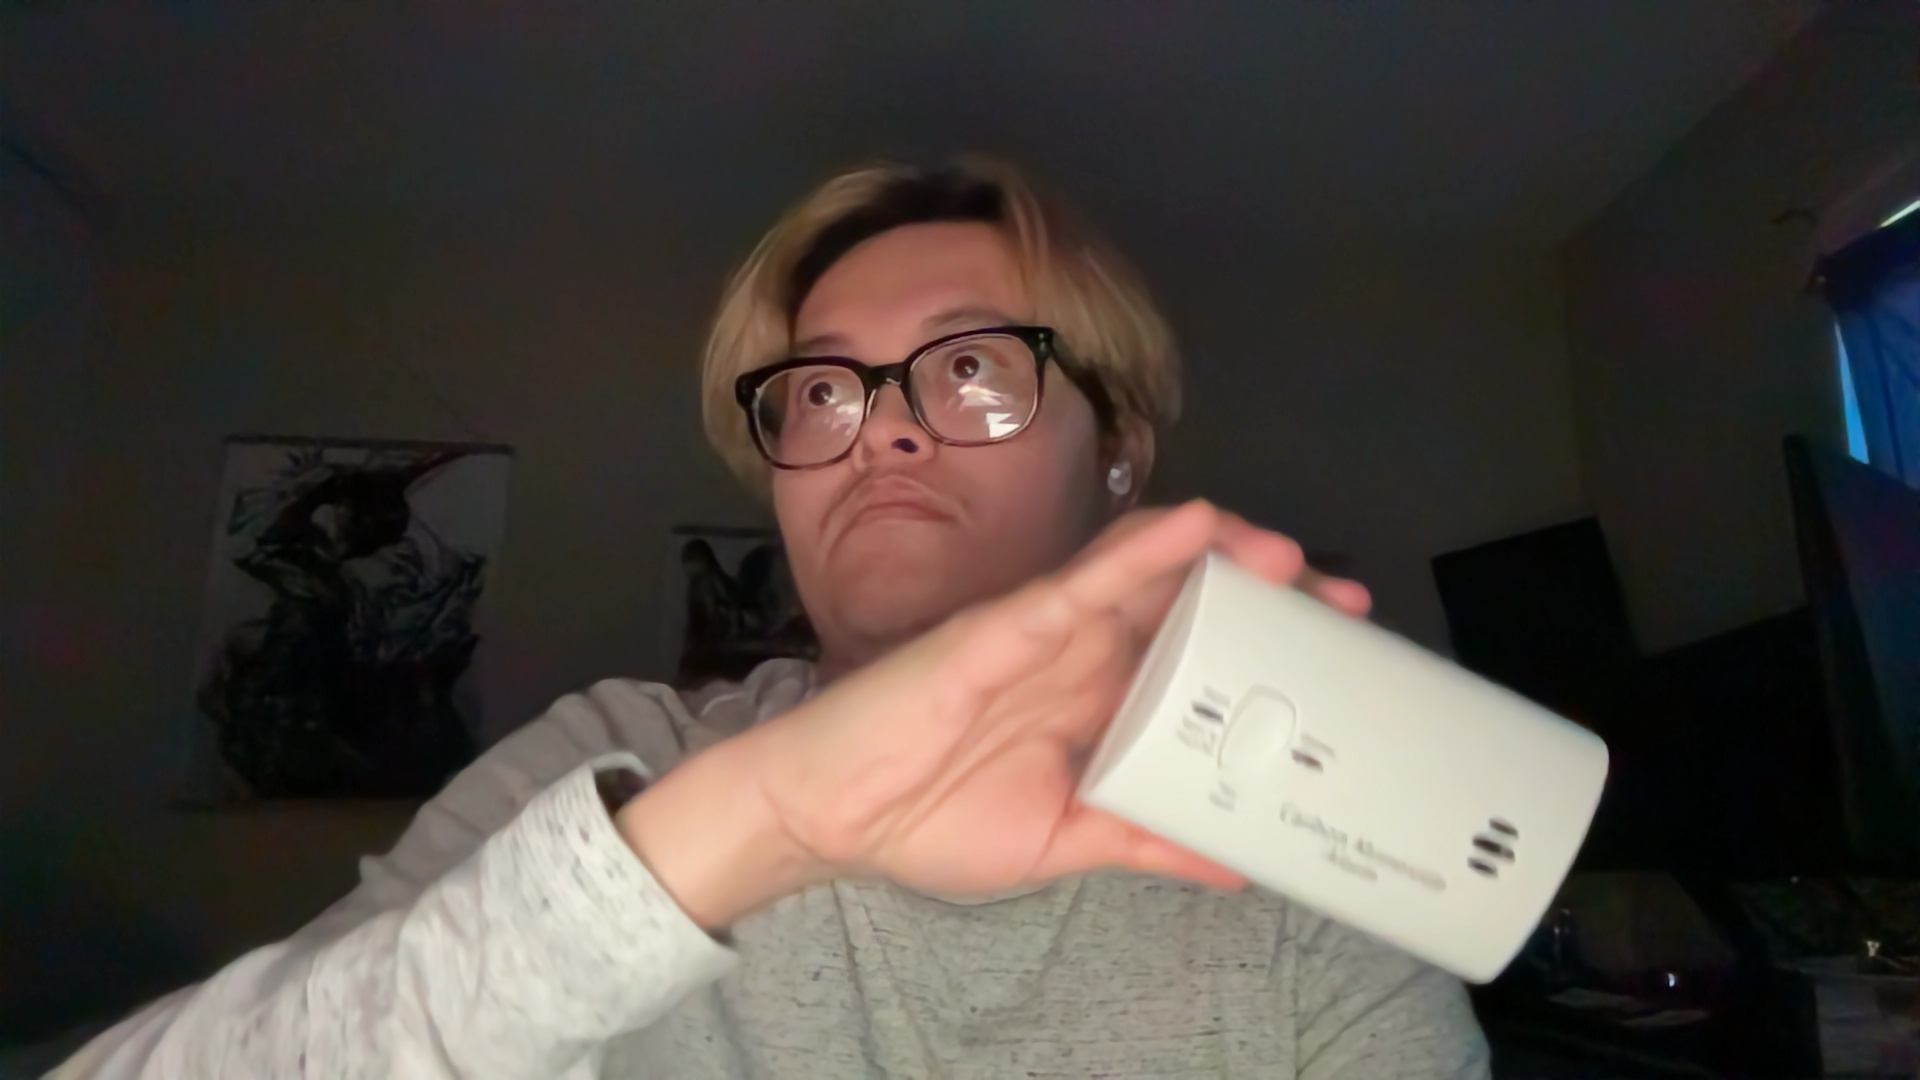carbonmonitor: (1073, 545, 1611, 996)
